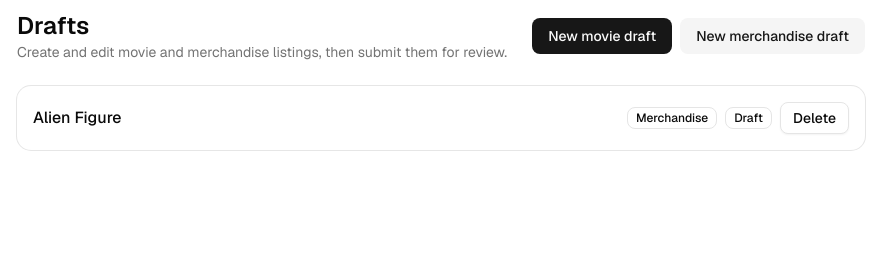
Test: DraftsPage › deletes a merchandise draft via the merchandise BFF route
The width and height of the screenshot is (883, 264).
Click the button "Delete" at (814, 118), box [780,102,849,134]
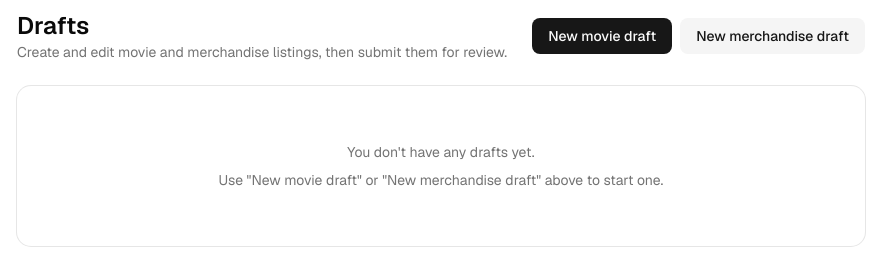
Check: the link "Alien Figure" is gone
